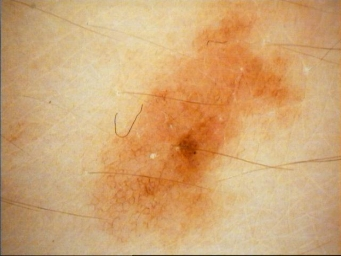melanoma: (101, 14, 299, 246)
